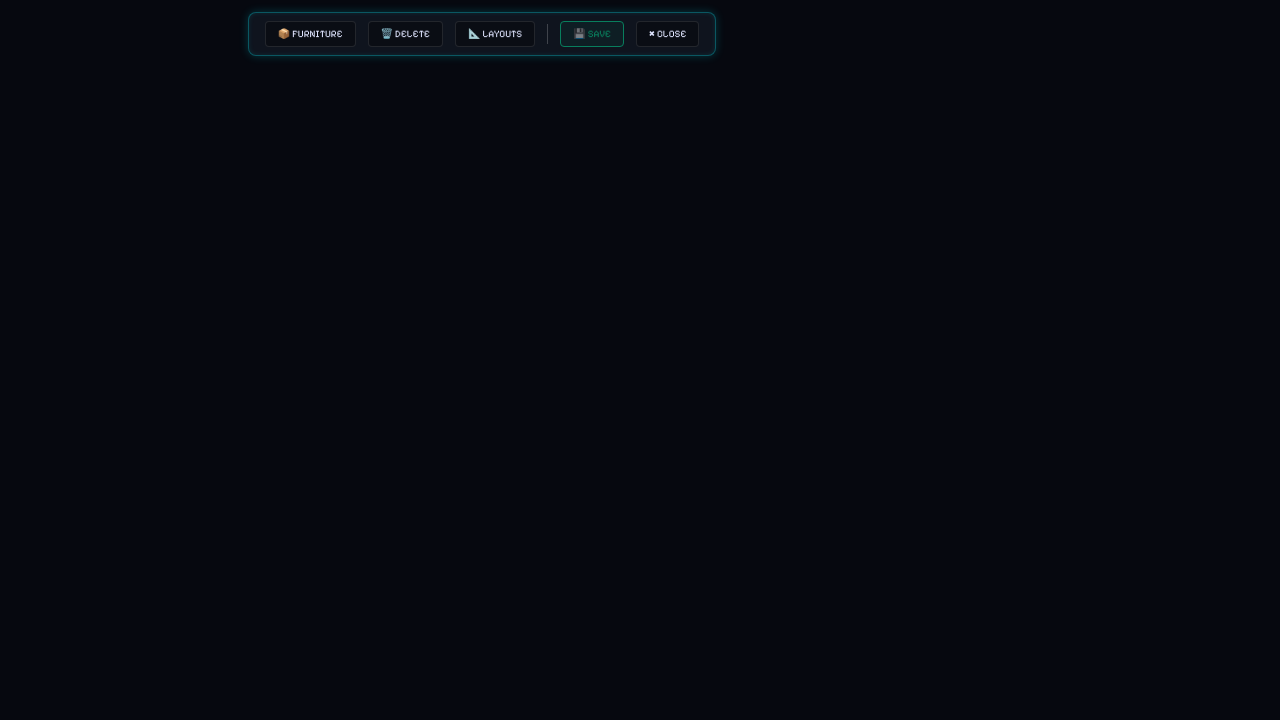
Scenario: Issue #109 — delete confirmation guard › passes the layout id that the store would use for the DELETE request
Click the button titled "Layout manager".
click(495, 34)  # box [455,21,535,47]
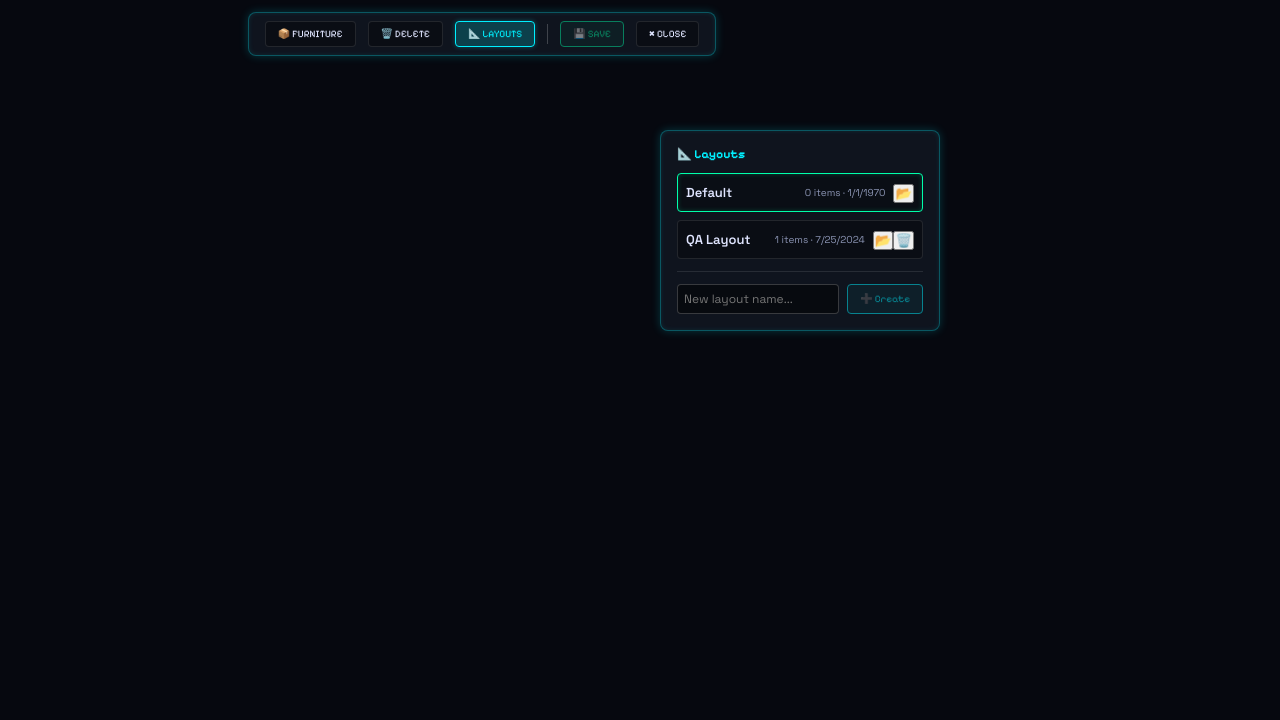
Click the button named "Delete QA Layout".
click(904, 240)  # box [893,231,914,250]
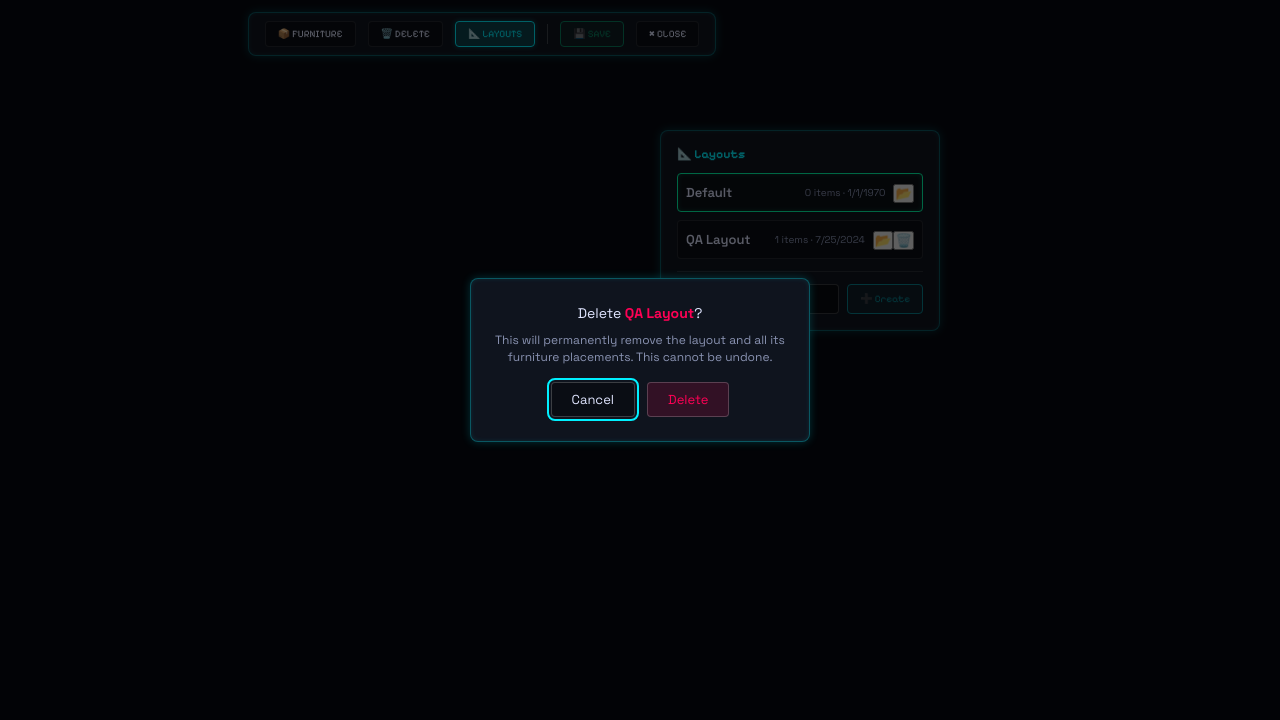
Click the button with class "confirm-delete".
click(688, 399)  # box [647,382,729,417]
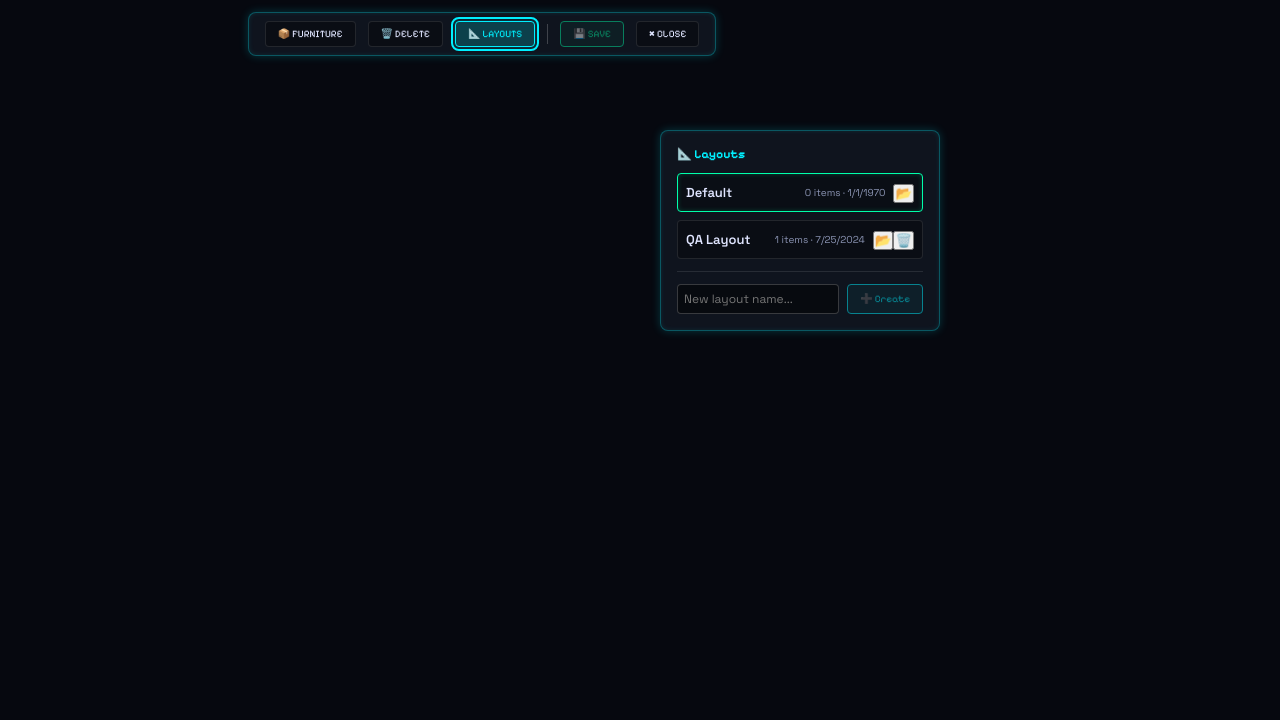
Expected: the dialog is gone
